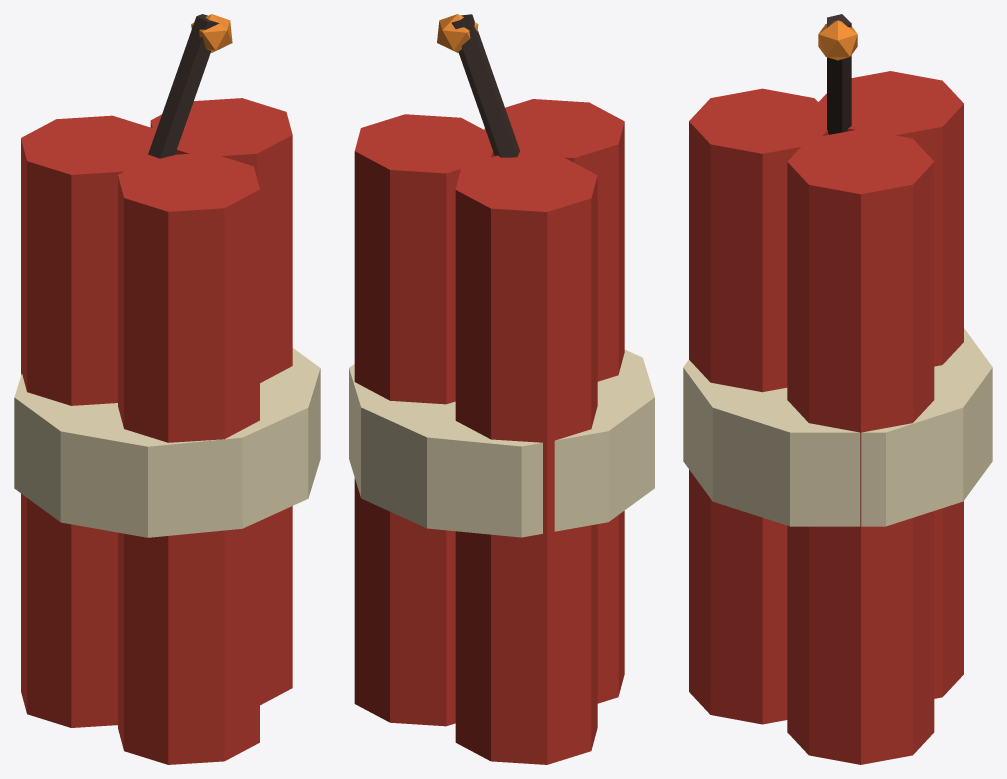
File: Dynamite.fbx
The picture shows the model from 3 angles, left to right: view 1: azimuth 30°, elevation 25°; view 2: azimuth 150°, elevation 25°; view 3: azimuth 270°, elevation 25°; orthographic projection. The views are drawn at different scales.
Visible parts, largest first — view 1: Dynamite; view 2: Dynamite; view 3: Dynamite.
Part boxes in pixels (bbox=[...]): Dynamite: bbox=[14, 14, 320, 764]; Dynamite: bbox=[349, 14, 654, 764]; Dynamite: bbox=[683, 14, 992, 764].
Bounding box in the file's own units: 0.8 × 2 × 0.8.
1 material, 1 textured.
